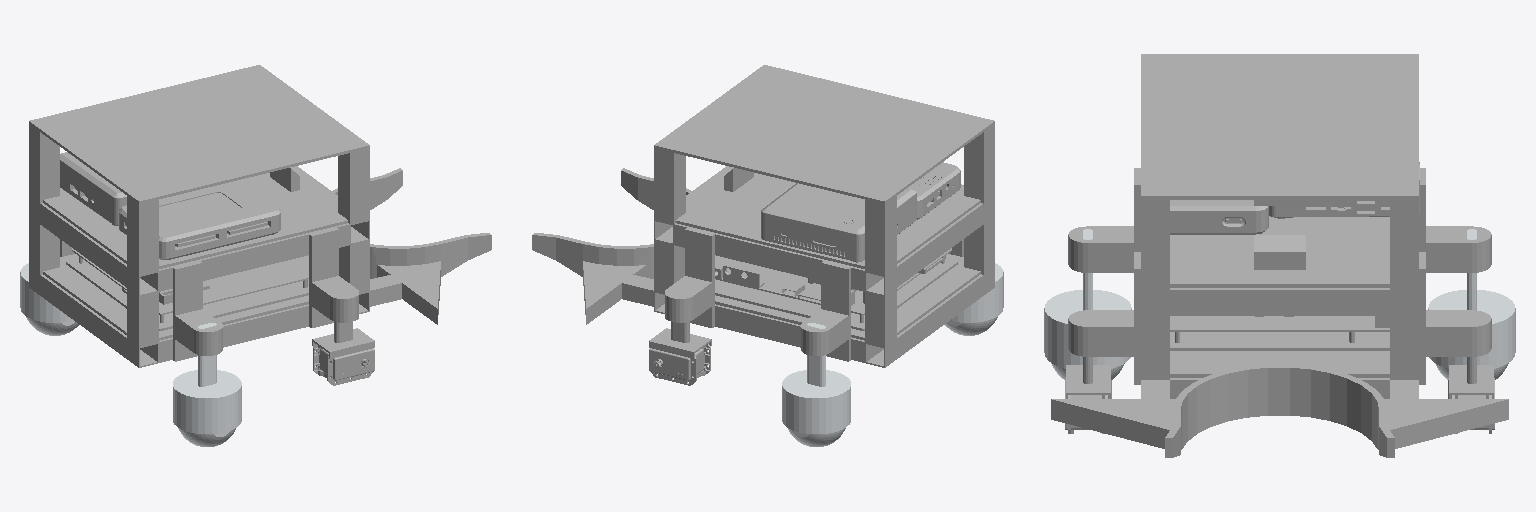
The robot description file, URDF, robot "lide":
<?xml version="1.0" encoding="utf-8"?>
<!-- This URDF was automatically created by SolidWorks to URDF Exporter! Originally created by [author] ([email redacted]) 
     Commit Version: 1.5.1-0-g916b5db  Build Version: 1.5.7152.31018
     For more information, please see http://wiki.ros.org/sw_urdf_exporter -->
<robot
  name="lide">
  <link
    name="base_link">
    <inertial>
      <origin
        xyz="-0.123905080916601 0.0849038994359378 0.0505995438981258"
        rpy="0 0 0" />
      <mass
        value="2.91428056653758" />
      <inertia
        ixx="0.00617409122645341"
        ixy="-7.15450905274671E-07"
        ixz="-1.26542370052897E-05"
        iyy="0.00553452148968598"
        iyz="-3.51329121715545E-07"
        izz="0.0110503775267064" />
    </inertial>
    <visual>
      <origin
        xyz="0 0 0"
        rpy="0 0 0" />
      <geometry>
        <mesh
          filename="package://lide/meshes/base_link.STL" />
      </geometry>
      <material
        name="">
        <color
          rgba="0.752941176470588 0.752941176470588 0.752941176470588 1" />
      </material>
    </visual>
    <collision>
      <origin
        xyz="0 0 0"
        rpy="0 0 0" />
      <geometry>
        <mesh
          filename="package://lide/meshes/base_link.STL" />
      </geometry>
    </collision>
  </link>
  <link
    name="LFS">
    <inertial>
      <origin
        xyz="0.0455604268709419 0.00830943309140331 0.00297622851896683"
        rpy="0 0 0" />
      <mass
        value="0.0727928435161986" />
      <inertia
        ixx="2.20927876796312E-05"
        ixy="-1.64845302056392E-08"
        ixz="-1.56454773175215E-07"
        iyy="1.62632133784213E-05"
        iyz="2.9641187651118E-09"
        izz="1.80843397531752E-05" />
    </inertial>
    <visual>
      <origin
        xyz="0 0 0"
        rpy="0 0 0" />
      <geometry>
        <mesh
          filename="package://lide/meshes/LFS.STL" />
      </geometry>
      <material
        name="">
        <color
          rgba="0.752941176470588 0.752941176470588 0.752941176470588 1" />
      </material>
    </visual>
    <collision>
      <origin
        xyz="0 0 0"
        rpy="0 0 0" />
      <geometry>
        <mesh
          filename="package://lide/meshes/LFS.STL" />
      </geometry>
    </collision>
  </link>
  <joint
    name="LFS"
    type="fixed">
    <origin
      xyz="-0.054044 0.18241 -0.036503"
      rpy="1.5708 0 1.5708" />
    <parent
      link="base_link" />
    <child
      link="LFS" />
    <axis
      xyz="0 0 0" />
  </joint>
  <link
    name="LFW">
    <inertial>
      <origin
        xyz="0.015 0 3.4694E-18"
        rpy="0 0 0" />
      <mass
        value="0.76708" />
      <inertia
        ixx="0.0011643"
        ixy="4.4576E-22"
        ixz="-1.8299E-20"
        iyy="0.00063966"
        iyz="-1.3553E-20"
        izz="0.00063966" />
    </inertial>
    <visual>
      <origin
        xyz="0 0 0"
        rpy="0 0 0" />
      <geometry>
        <mesh
          filename="package://lide/meshes/LFW.STL" />
      </geometry>
      <material
        name="">
        <color
          rgba="0.89804 0.91765 0.92941 1" />
      </material>
    </visual>
    <collision>
      <origin
        xyz="0 0 0"
        rpy="0 0 0" />
      <geometry>
        <mesh
          filename="package://lide/meshes/LFW.STL" />
      </geometry>
    </collision>
  </link>
  <joint
    name="LFW"
    type="continuous">
    <origin
      xyz="0.063346 -0.006798 0.015044"
      rpy="-1.6264 0 0" />
    <parent
      link="LFS" />
    <child
      link="LFW" />
    <axis
      xyz="1 0 0" />
    <limit
      effort="3.1"
      velocity="7" />
  </joint>
  <link
    name="RFS">
    <inertial>
      <origin
        xyz="-0.019183 -0.0090093 0.052006"
        rpy="0 0 0" />
      <mass
        value="0.072793" />
      <inertia
        ixx="2.2093E-05"
        ixy="-1.6485E-08"
        ixz="1.5645E-07"
        iyy="1.6263E-05"
        iyz="-2.9641E-09"
        izz="1.8084E-05" />
    </inertial>
    <visual>
      <origin
        xyz="0 0 0"
        rpy="0 0 0" />
      <geometry>
        <mesh
          filename="package://lide/meshes/RFS.STL" />
      </geometry>
      <material
        name="">
        <color
          rgba="0.75294 0.75294 0.75294 1" />
      </material>
    </visual>
    <collision>
      <origin
        xyz="0 0 0"
        rpy="0 0 0" />
      <geometry>
        <mesh
          filename="package://lide/meshes/RFS.STL" />
      </geometry>
    </collision>
  </link>
  <joint
    name="RFS"
    type="fixed">
    <origin
      xyz="-0.10307 -0.042784 -0.019216"
      rpy="1.5708 0 1.5708" />
    <parent
      link="base_link" />
    <child
      link="RFS" />
    <axis
      xyz="0 0 0" />
  </joint>
  <link
    name="RFW">
    <inertial>
      <origin
        xyz="-0.015 0 0"
        rpy="0 0 0" />
      <mass
        value="0.76708" />
      <inertia
        ixx="0.0011643"
        ixy="-1.2315E-36"
        ixz="0"
        iyy="0.00063966"
        iyz="8.0046E-39"
        izz="0.00063966" />
    </inertial>
    <visual>
      <origin
        xyz="0 0 0"
        rpy="0 0 0" />
      <geometry>
        <mesh
          filename="package://lide/meshes/RFW.STL" />
      </geometry>
      <material
        name="">
        <color
          rgba="0.89804 0.91765 0.92941 1" />
      </material>
    </visual>
    <collision>
      <origin
        xyz="0 0 0"
        rpy="0 0 0" />
      <geometry>
        <mesh
          filename="package://lide/meshes/RFW.STL" />
      </geometry>
    </collision>
  </link>
  <joint
    name="RFW"
    type="continuous">
    <origin
      xyz="-0.036969 -0.024084 0.064073"
      rpy="0 0 0" />
    <parent
      link="RFS" />
    <child
      link="RFW" />
    <axis
      xyz="1 0 0" />
    <limit
      effort="3.1"
      velocity="7" />
  </joint>
  <link
    name="LBS">
    <inertial>
      <origin
        xyz="-4.7988E-10 -0.023473 -1.1682E-09"
        rpy="0 0 0" />
      <mass
        value="0.083536" />
      <inertia
        ixx="7.7297E-05"
        ixy="-8.6048E-13"
        ixz="1.4059E-13"
        iyy="5.1382E-05"
        iyz="-5.0656E-12"
        izz="7.7395E-05" />
    </inertial>
    <visual>
      <origin
        xyz="0 0 0"
        rpy="0 0 0" />
      <geometry>
        <mesh
          filename="package://lide/meshes/LBS.STL" />
      </geometry>
      <material
        name="">
        <color
          rgba="0.89804 0.91765 0.92941 1" />
      </material>
    </visual>
    <collision>
      <origin
        xyz="0 0 0"
        rpy="0 0 0" />
      <geometry>
        <mesh
          filename="package://lide/meshes/LBS.STL" />
      </geometry>
    </collision>
  </link>
  <joint
    name="LBS"
    type="fixed">
    <origin
      xyz="-0.202 0.228 -0.012562"
      rpy="1.5708 0 1.5708" />
    <parent
      link="base_link" />
    <child
      link="LBS" />
    <axis
      xyz="0 0 0" />
  </joint>
  <link
    name="LBW">
    <inertial>
      <origin
        xyz="6.9389E-18 5.5511E-17 -2.7756E-17"
        rpy="0 0 0" />
      <mass
        value="0.2991" />
      <inertia
        ixx="0.00010713"
        ixy="1.4297E-21"
        ixz="-1.7115E-22"
        iyy="0.00010983"
        iyz="-8.6623E-20"
        izz="0.00010713" />
    </inertial>
    <visual>
      <origin
        xyz="0 0 0"
        rpy="0 0 0" />
      <geometry>
        <mesh
          filename="package://lide/meshes/LBW.STL" />
      </geometry>
      <material
        name="">
        <color
          rgba="0.89804 0.91765 0.92941 1" />
      </material>
    </visual>
    <collision>
      <origin
        xyz="0 0 0"
        rpy="0 0 0" />
      <geometry>
        <mesh
          filename="package://lide/meshes/LBW.STL" />
      </geometry>
    </collision>
  </link>
  <joint
    name="LBW"
    type="continuous">
    <origin
      xyz="0 -0.055738 0"
      rpy="3.1416 0 1.5708" />
    <parent
      link="LBS" />
    <child
      link="LBW" />
    <axis
      xyz="0 1 0" />
  </joint>
  <link
    name="RBS">
    <inertial>
      <origin
        xyz="-4.7988E-10 -0.023473 -1.1682E-09"
        rpy="0 0 0" />
      <mass
        value="0.083536" />
      <inertia
        ixx="7.7297E-05"
        ixy="-8.6048E-13"
        ixz="1.4059E-13"
        iyy="5.1382E-05"
        iyz="-5.0656E-12"
        izz="7.7395E-05" />
    </inertial>
    <visual>
      <origin
        xyz="0 0 0"
        rpy="0 0 0" />
      <geometry>
        <mesh
          filename="package://lide/meshes/RBS.STL" />
      </geometry>
      <material
        name="">
        <color
          rgba="0.89804 0.91765 0.92941 1" />
      </material>
    </visual>
    <collision>
      <origin
        xyz="0 0 0"
        rpy="0 0 0" />
      <geometry>
        <mesh
          filename="package://lide/meshes/RBS.STL" />
      </geometry>
    </collision>
  </link>
  <joint
    name="RBS"
    type="fixed">
    <origin
      xyz="-0.202 -0.062003 -0.012562"
      rpy="1.5708 0 1.5708" />
    <parent
      link="base_link" />
    <child
      link="RBS" />
    <axis
      xyz="0 0 0" />
  </joint>
  <link
    name="RBW">
    <inertial>
      <origin
        xyz="0 -2.0817E-17 0"
        rpy="0 0 0" />
      <mass
        value="0.2991" />
      <inertia
        ixx="0.00010713"
        ixy="-1.3052E-21"
        ixz="-5.5031E-22"
        iyy="0.00010983"
        iyz="-8.659E-20"
        izz="0.00010713" />
    </inertial>
    <visual>
      <origin
        xyz="0 0 0"
        rpy="0 0 0" />
      <geometry>
        <mesh
          filename="package://lide/meshes/RBW.STL" />
      </geometry>
      <material
        name="">
        <color
          rgba="0.89804 0.91765 0.92941 1" />
      </material>
    </visual>
    <collision>
      <origin
        xyz="0 0 0"
        rpy="0 0 0" />
      <geometry>
        <mesh
          filename="package://lide/meshes/RBW.STL" />
      </geometry>
    </collision>
  </link>
  <joint
    name="RBW"
    type="continuous">
    <origin
      xyz="0 -0.055738 0"
      rpy="0 0 -1.5708" />
    <parent
      link="RBS" />
    <child
      link="RBW" />
    <axis
      xyz="0 1 0" />
  </joint>
  <link
    name="fcam">
    <inertial>
      <origin
        xyz="-0.011554 -2.6443E-06 0.0012903"
        rpy="0 0 0" />
      <mass
        value="0.043612" />
      <inertia
        ixx="2.3571E-05"
        ixy="-1.0184E-09"
        ixz="2.1759E-08"
        iyy="4.2948E-06"
        iyz="-8.8502E-10"
        izz="2.2106E-05" />
    </inertial>
    <visual>
      <origin
        xyz="0 0 0"
        rpy="0 0 0" />
      <geometry>
        <mesh
          filename="package://lide/meshes/fcam.STL" />
      </geometry>
      <material
        name="">
        <color
          rgba="0.79216 0.81961 0.93333 1" />
      </material>
    </visual>
    <collision>
      <origin
        xyz="0 0 0"
        rpy="0 0 0" />
      <geometry>
        <mesh
          filename="package://lide/meshes/fcam.STL" />
      </geometry>
    </collision>
  </link>
  <joint
    name="fcam"
    type="fixed">
    <origin
      xyz="-0.0038823 0.083 0.12982"
      rpy="0 0.2618 0" />
    <parent
      link="base_link" />
    <child
      link="fcam" />
    <axis
      xyz="0 0 0" />
  </joint>
  <link
    name="bcam">
    <inertial>
      <origin
        xyz="-0.020103 -2.6435E-06 -0.0072587"
        rpy="0 0 0" />
      <mass
        value="0.043612" />
      <inertia
        ixx="2.3571E-05"
        ixy="-1.0183E-09"
        ixz="2.1758E-08"
        iyy="4.2948E-06"
        iyz="-8.8548E-10"
        izz="2.2106E-05" />
    </inertial>
    <visual>
      <origin
        xyz="0 0 0"
        rpy="0 0 0" />
      <geometry>
        <mesh
          filename="package://lide/meshes/bcam.STL" />
      </geometry>
      <material
        name="">
        <color
          rgba="0.79216 0.81961 0.93333 1" />
      </material>
    </visual>
    <collision>
      <origin
        xyz="0 0 0"
        rpy="0 0 0" />
      <geometry>
        <mesh
          filename="package://lide/meshes/bcam.STL" />
      </geometry>
    </collision>
  </link>
  <joint
    name="bcam"
    type="fixed">
    <origin
      xyz="0 0.083 0.091232"
      rpy="0 0.7854 0" />
    <parent
      link="base_link" />
    <child
      link="bcam" />
    <axis
      xyz="0 0 0" />
  </joint>
  <link
    name="Lidar">
    <inertial>
      <origin
        xyz="0.013523 0.00046196 -0.028765"
        rpy="0 0 0" />
      <mass
        value="0.073085" />
      <inertia
        ixx="1.9581E-05"
        ixy="-1.0393E-07"
        ixz="-4.2839E-07"
        iyy="2.4125E-05"
        iyz="9.4271E-09"
        izz="4.1418E-05" />
    </inertial>
    <visual>
      <origin
        xyz="0 0 0"
        rpy="0 0 0" />
      <geometry>
        <mesh
          filename="package://lide/meshes/Lidar.STL" />
      </geometry>
      <material
        name="">
        <color
          rgba="0.79216 0.81961 0.93333 1" />
      </material>
    </visual>
    <collision>
      <origin
        xyz="0 0 0"
        rpy="0 0 0" />
      <geometry>
        <mesh
          filename="package://lide/meshes/Lidar.STL" />
      </geometry>
    </collision>
  </link>
  <joint
    name="Lidar"
    type="fixed">
    <origin
      xyz="-0.19458 0.082006 0.2065"
      rpy="0 0 0" />
    <parent
      link="base_link" />
    <child
      link="Lidar" />
    <axis
      xyz="0 0 0" />
  </joint>
  <link
    name="imu_link">
    <inertial>
      <origin
        xyz="0 0 0"
        rpy="0 0 0" />
      <mass
        value="0" />
      <inertia
        ixx="0"
        ixy="0"
        ixz="0"
        iyy="0"
        iyz="0"
        izz="0" />
    </inertial>
    <visual>
      <origin
        xyz="0 0 0"
        rpy="0 0 0" />
      <geometry>
        <mesh
          filename="package://lide/meshes/imu_link.STL" />
      </geometry>
      <material
        name="">
        <color
          rgba="1 1 1 1" />
      </material>
    </visual>
    <collision>
      <origin
        xyz="0 0 0"
        rpy="0 0 0" />
      <geometry>
        <mesh
          filename="package://lide/meshes/imu_link.STL" />
      </geometry>
    </collision>
  </link>
  <joint
    name="imu_link"
    type="fixed">
    <origin
      xyz="-0.039 0.083 0.155"
      rpy="0 0 0" />
    <parent
      link="base_link" />
    <child
      link="imu_link" />
    <axis
      xyz="0 0 0" />
  </joint>
</robot>

--- Facts derived from the render (not from the file) ---
Views: 3 orthographic renders of the robot side by side, from view 1: azimuth 30°, elevation 25°; view 2: azimuth 150°, elevation 25°; view 3: azimuth 270°, elevation 25°.
Model lide with 13 links and 12 joints (4 continuous, 8 fixed), rooted at base_link, posed all joints at 0.
Links seen in each view (by area): view 1: base_link, RBS, RFS, LBS, RBW, LBW; view 2: base_link, LBS, LFS, RBS, LBW, RBW; view 3: base_link, LBS, RBS, RFS, LFS.
Link boxes in pixels (x1,y1,x2,y2): base_link: [29, 65, 491, 367]; RBS: [173, 323, 241, 433]; RFS: [312, 289, 374, 385]; LBS: [20, 263, 73, 322]; RBW: [178, 428, 235, 446]; LBW: [26, 317, 78, 335]; base_link: [532, 65, 994, 367]; LBS: [782, 323, 850, 433]; LFS: [649, 289, 711, 385]; RBS: [950, 263, 1003, 322]; LBW: [788, 428, 845, 446]; RBW: [945, 317, 997, 335]; base_link: [1051, 54, 1508, 457]; LBS: [1428, 229, 1515, 368]; RBS: [1044, 229, 1131, 368]; RFS: [1065, 313, 1111, 433]; LFS: [1448, 313, 1494, 433].
Bounding box of the posed robot: 0.398 × 0.356 × 0.2512 m (x, y, z).
7 mesh visuals loaded from 13 distinct referenced files (7 binary STL); not drawn: 6 (reference not matched to a file when rendering).